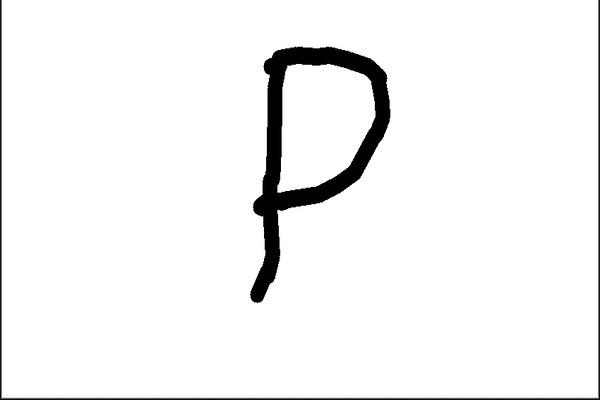P: (223, 37, 403, 315)
